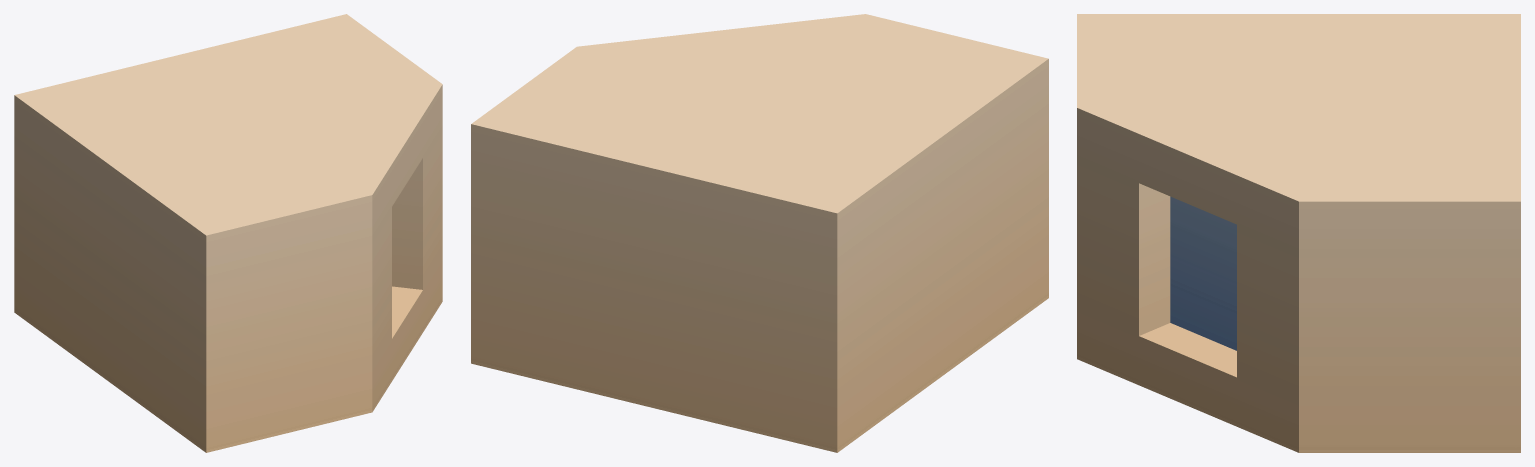
File: building-corner-window.glb
3 views of the same model, side by side, from view 1: azimuth 30°, elevation 25°; view 2: azimuth 150°, elevation 25°; view 3: azimuth 270°, elevation 25° (orthographic). The views are drawn at different scales.
Parts seen in each view (by area): view 1: building-corner-window; view 2: building-corner-window; view 3: building-corner-window.
Boxes of the visible parts, <box> form: building-corner-window: <box>14,14,442,452</box>; building-corner-window: <box>471,14,1048,452</box>; building-corner-window: <box>1077,14,1520,452</box>.
Bounding box in the file's own units: 1 × 0.625 × 1.
1 material, 1 textured.
